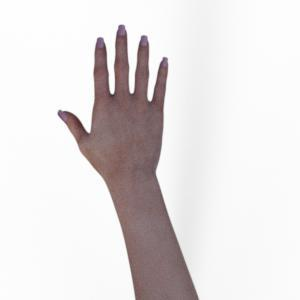paper: (58, 25, 199, 300)
